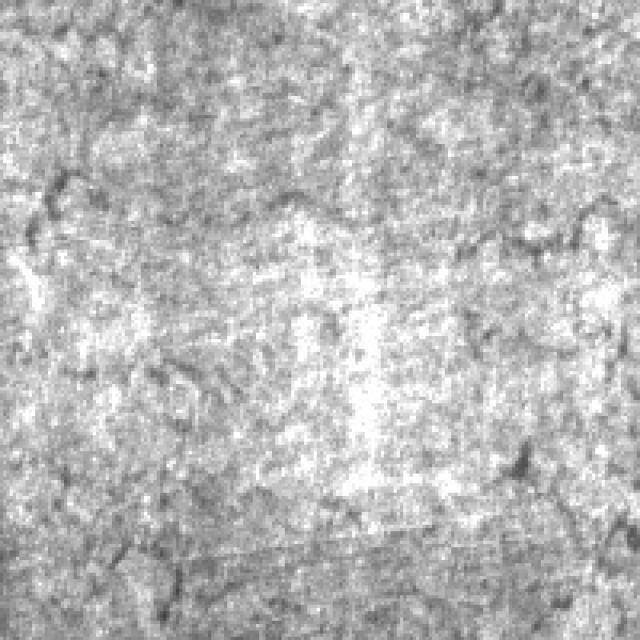crazing: (3, 163, 624, 435), (13, 442, 637, 634)
